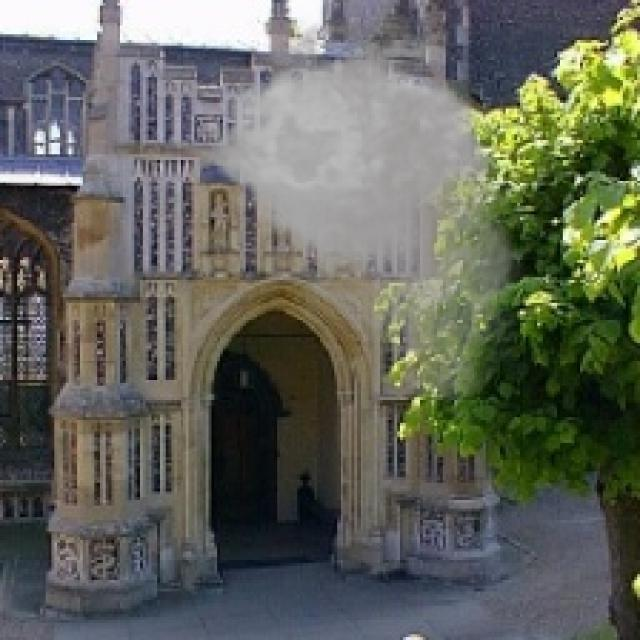Smoke: (160, 9, 534, 408)
